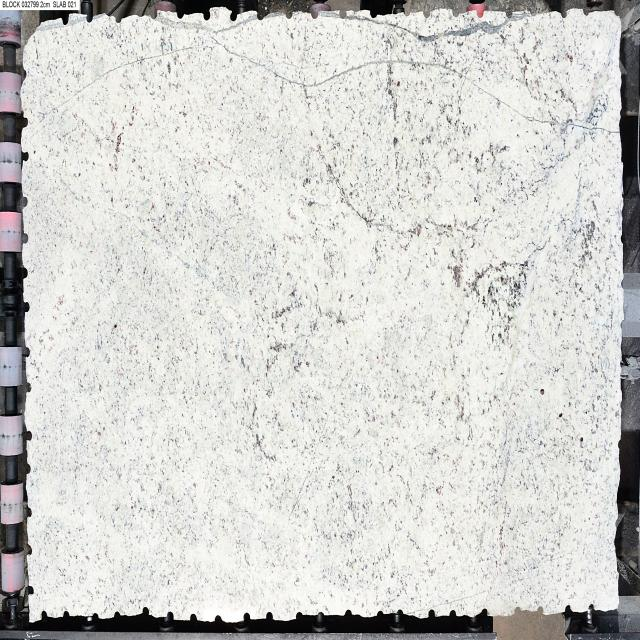chapa: (21, 10, 622, 621)
